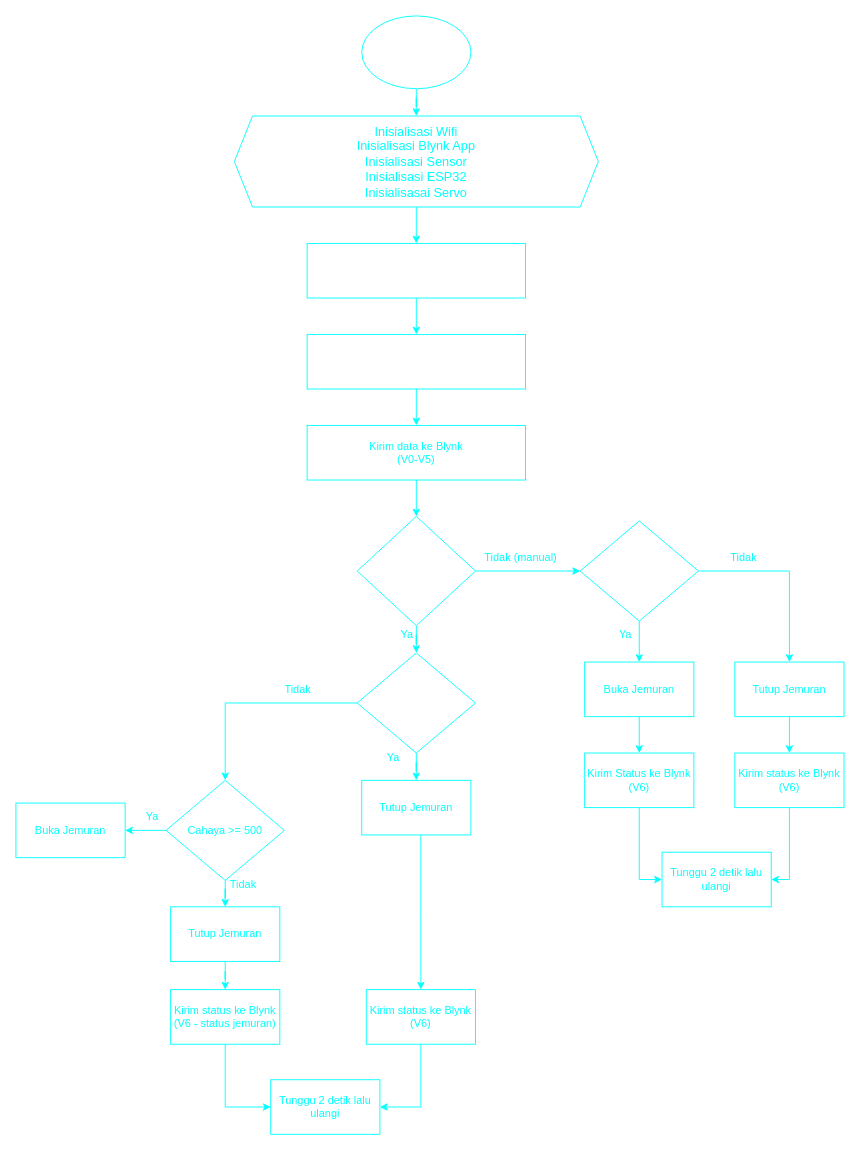
This 860x1150 diagram has some shape labels left out. Each missing label, with the centre of its shape:
Apakah hujan?: point (415, 702)
Baca data sensor : suhu, kelembapan, cahaya, dan hujan: point (416, 361)
Kontrol Manual == 1: point (638, 570)
Mode Otomatis? (V4 dari Blynk): point (415, 571)
Start: point (416, 52)
Timer 2s membaca sensor: point (416, 270)
